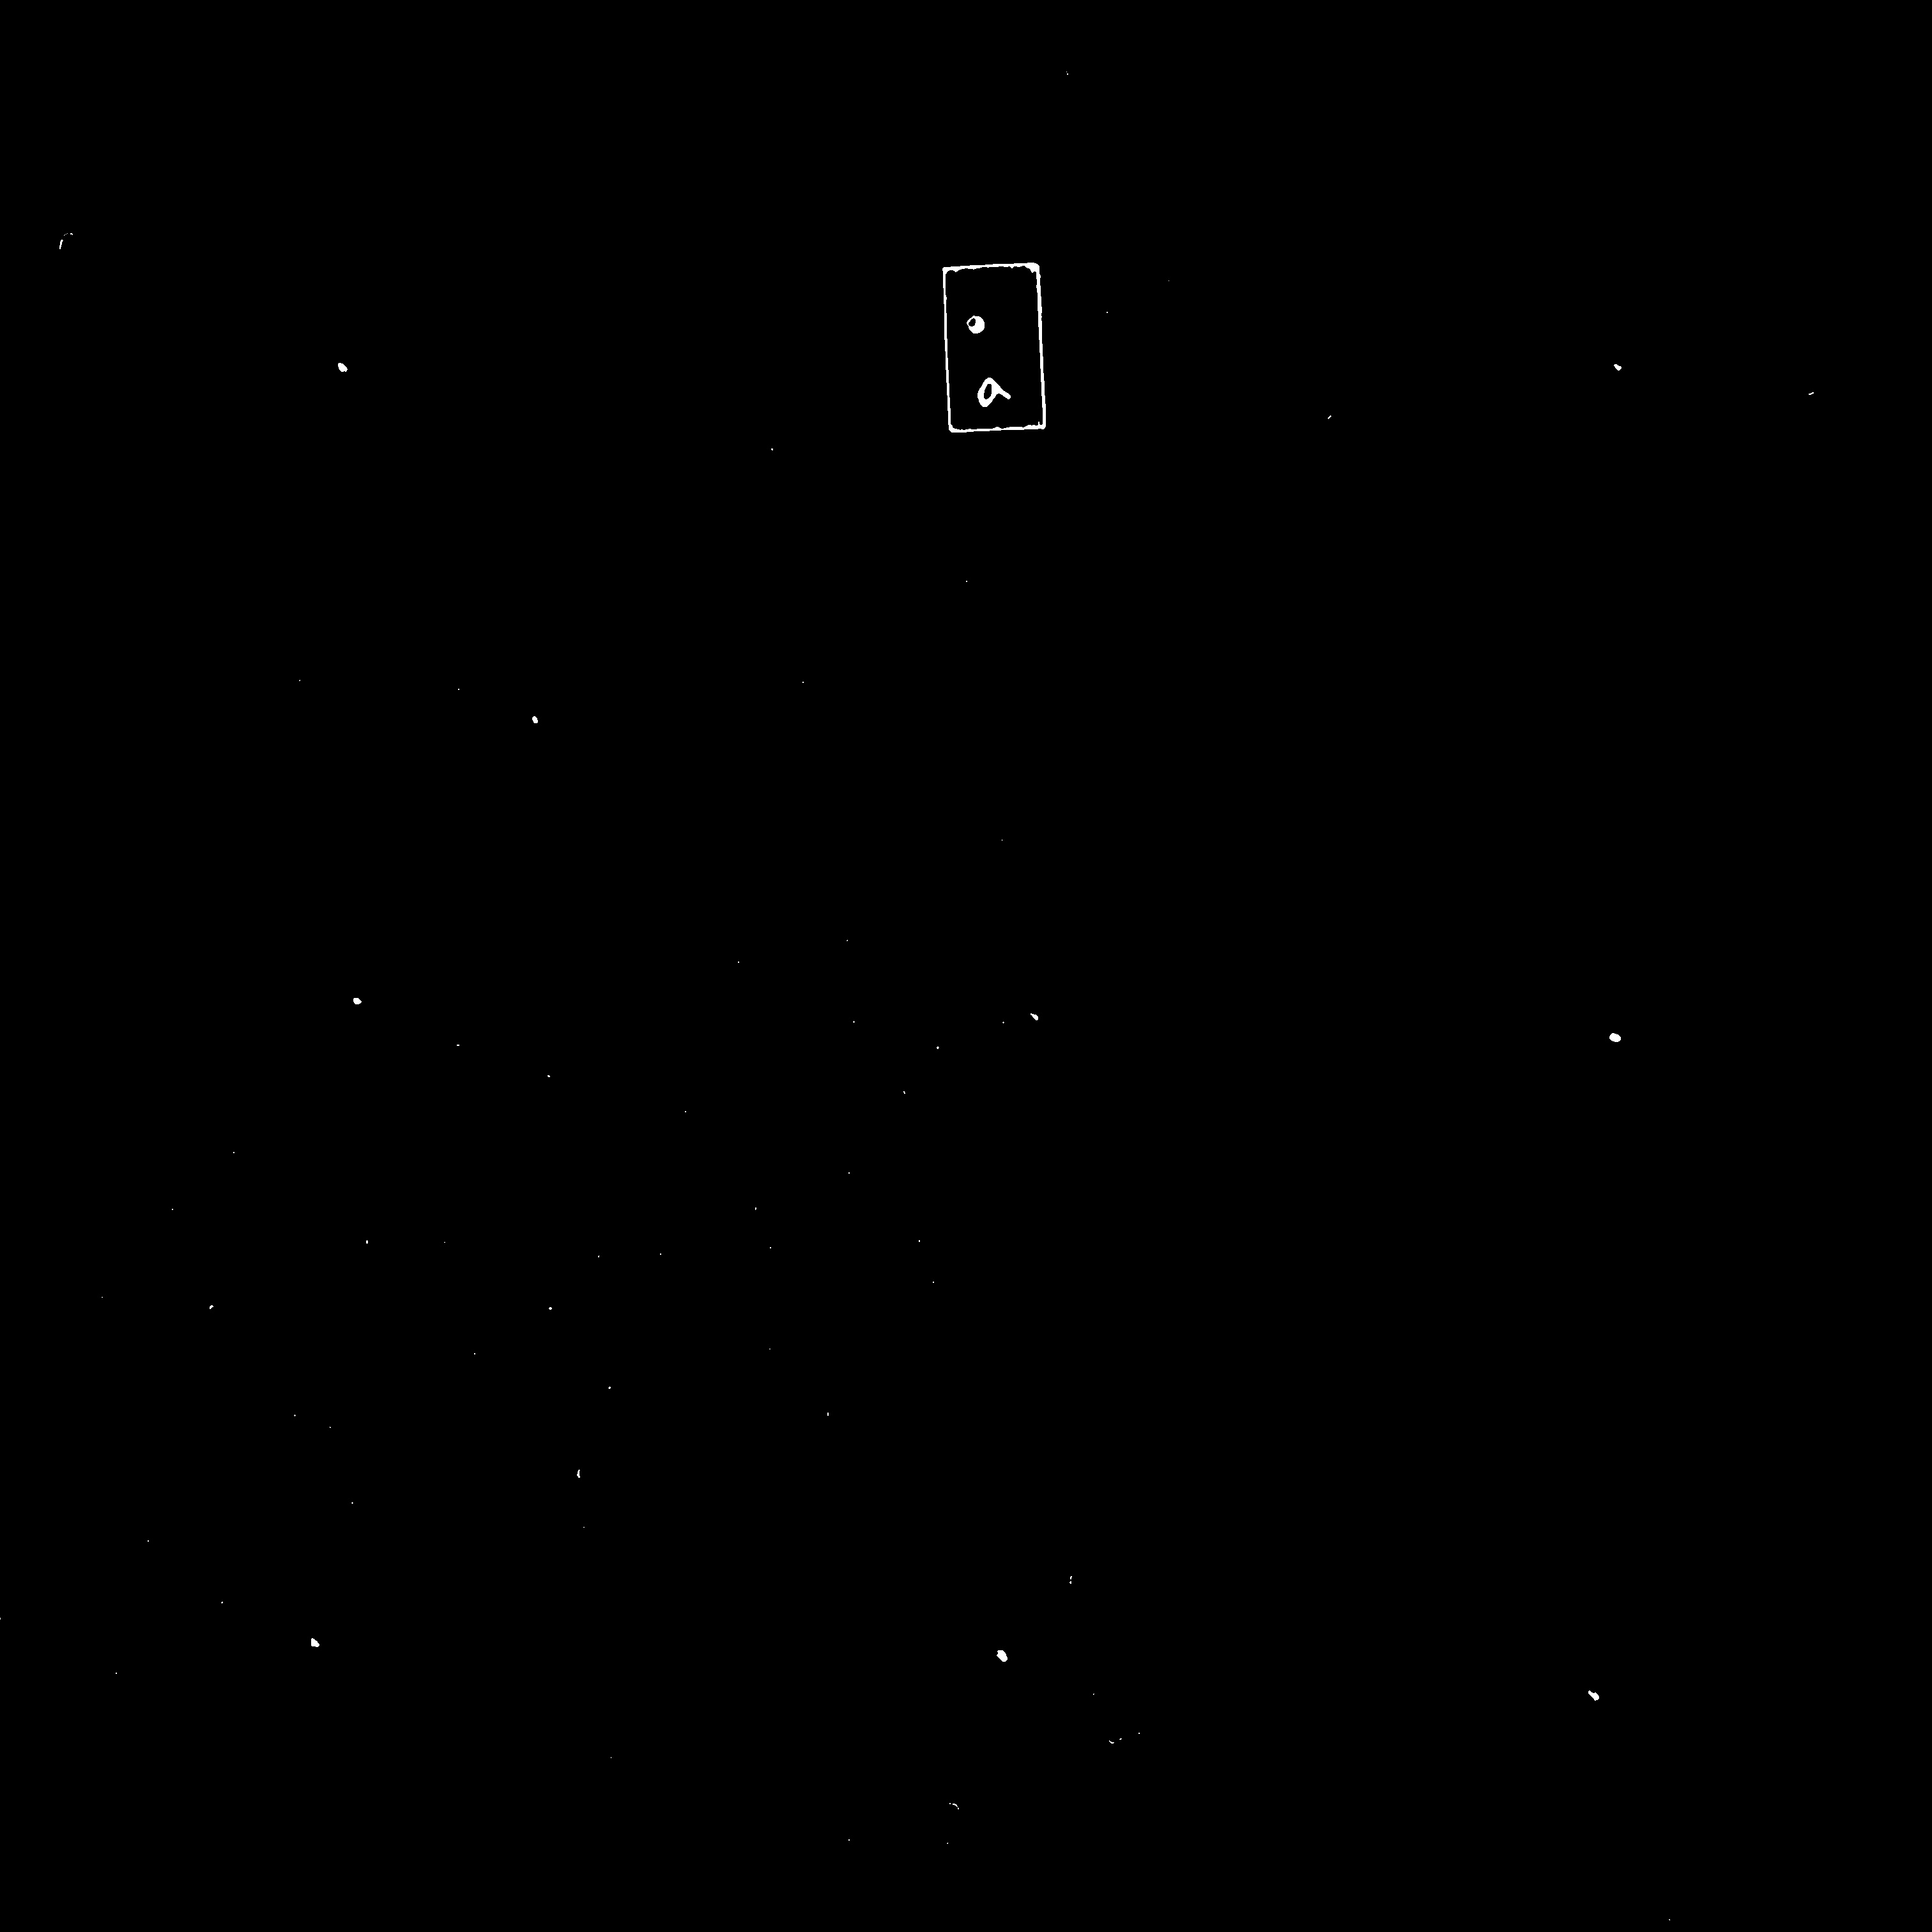a: (956, 297, 1018, 385)
